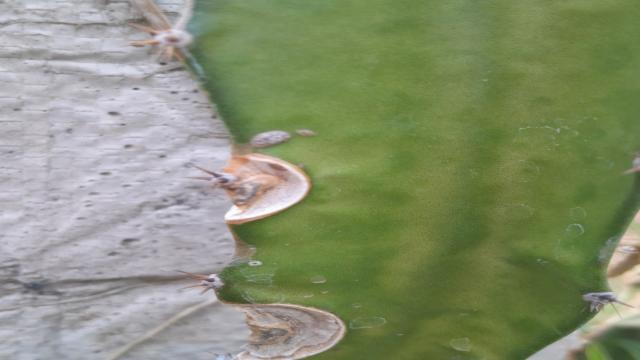stemcanker: (249, 127, 291, 148), (442, 332, 474, 354), (565, 218, 587, 235), (307, 271, 330, 287)
